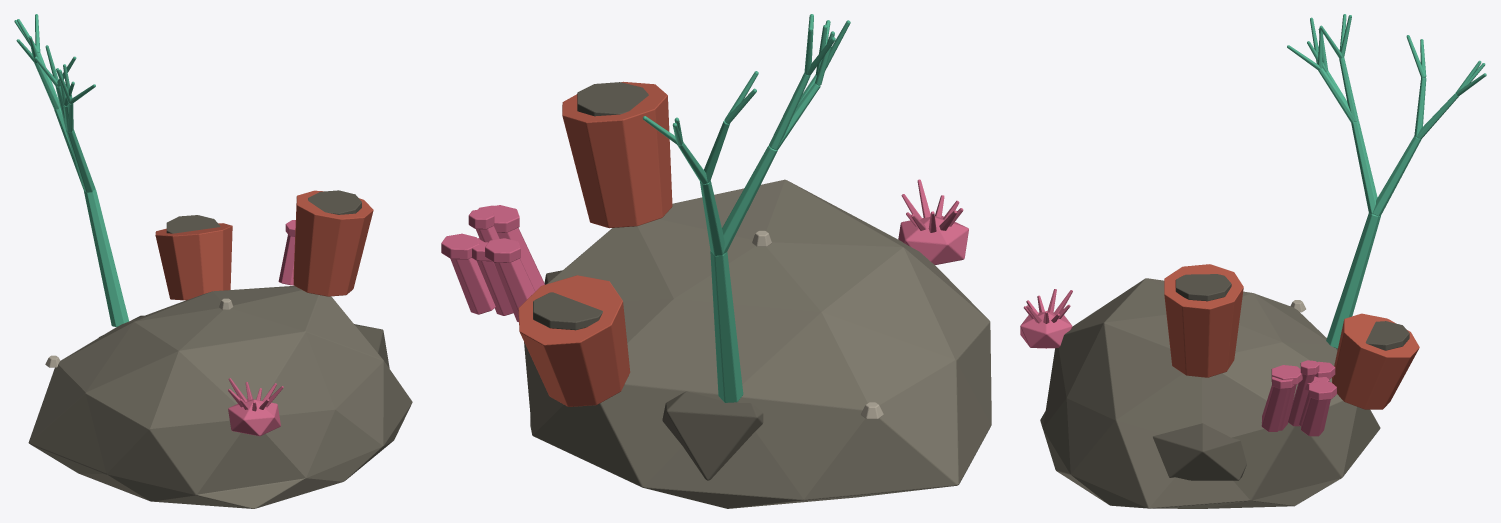
File: Reef.fbx
3 renders of one model, left to right at view 1: azimuth 30°, elevation 25°; view 2: azimuth 150°, elevation 25°; view 3: azimuth 270°, elevation 25°, orthographic. The views are drawn at different scales.
Visible parts, largest first — view 1: SM_ReefRock_Small; view 2: SM_ReefRock_Small; view 3: SM_ReefRock_Small.
Part boxes in pixels (box(x1,y1,x2,y2)): SM_ReefRock_Small: box(14, 14, 412, 508); SM_ReefRock_Small: box(441, 14, 991, 508); SM_ReefRock_Small: box(1020, 14, 1486, 508).
Size of the model in its own units: 237 by 254 by 272.
